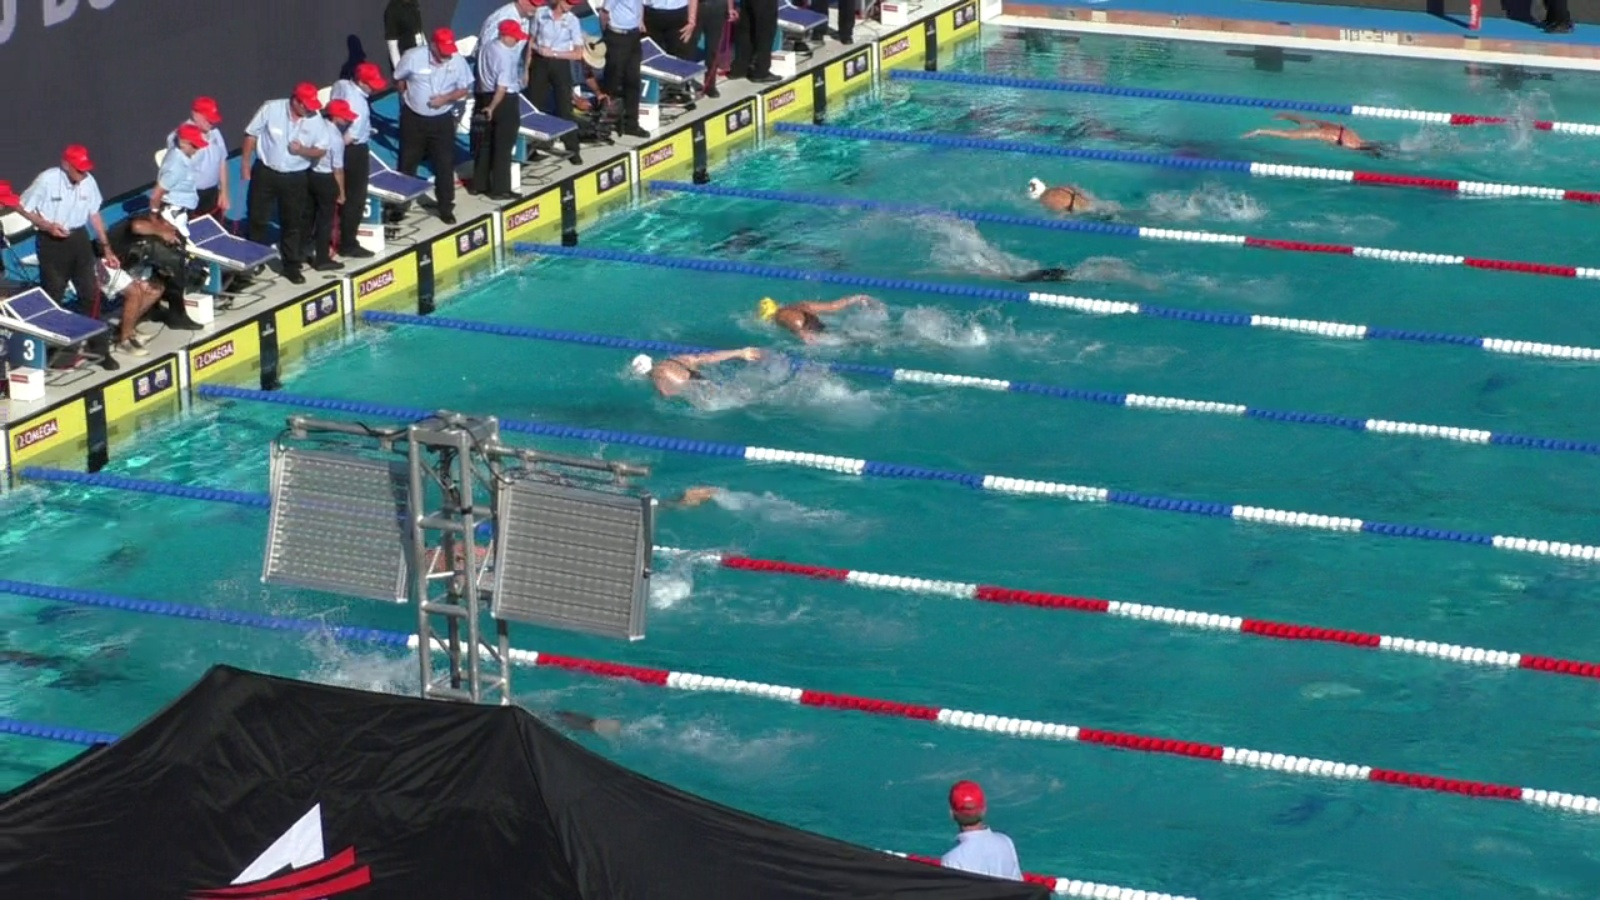swimmerw: (621, 347, 818, 424), (941, 236, 1135, 308), (754, 285, 899, 365), (1022, 173, 1177, 227), (1249, 111, 1407, 164), (411, 516, 522, 585), (610, 480, 755, 516)
